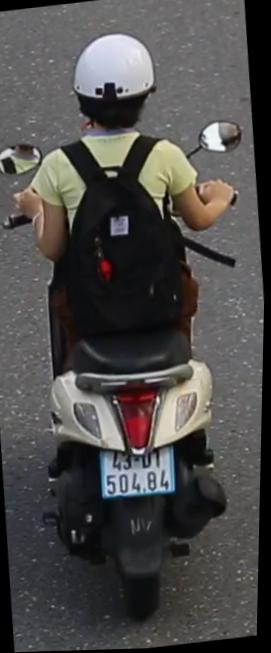LP: (95, 438, 184, 510)
helmet: (63, 24, 166, 152)
